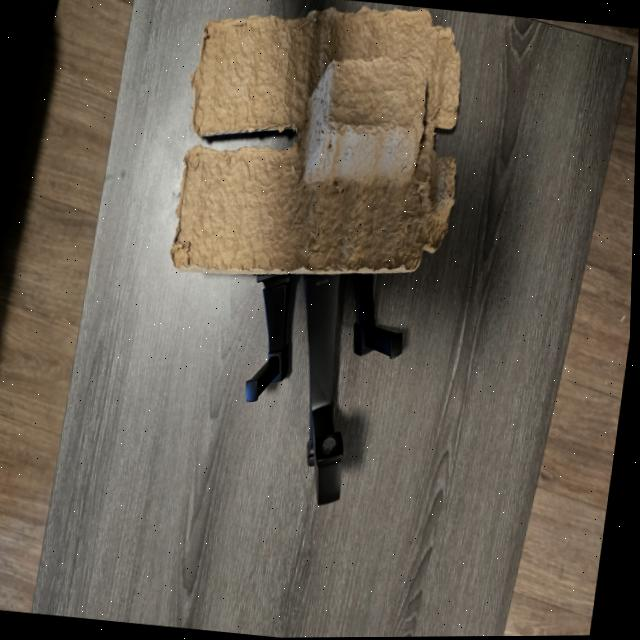9o: (245, 273, 344, 504), (343, 273, 402, 357)
